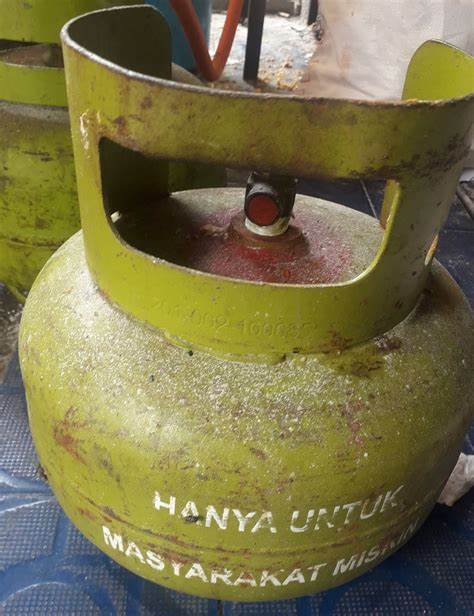gas_ijo: (16, 6, 474, 601), (1, 1, 124, 301)
